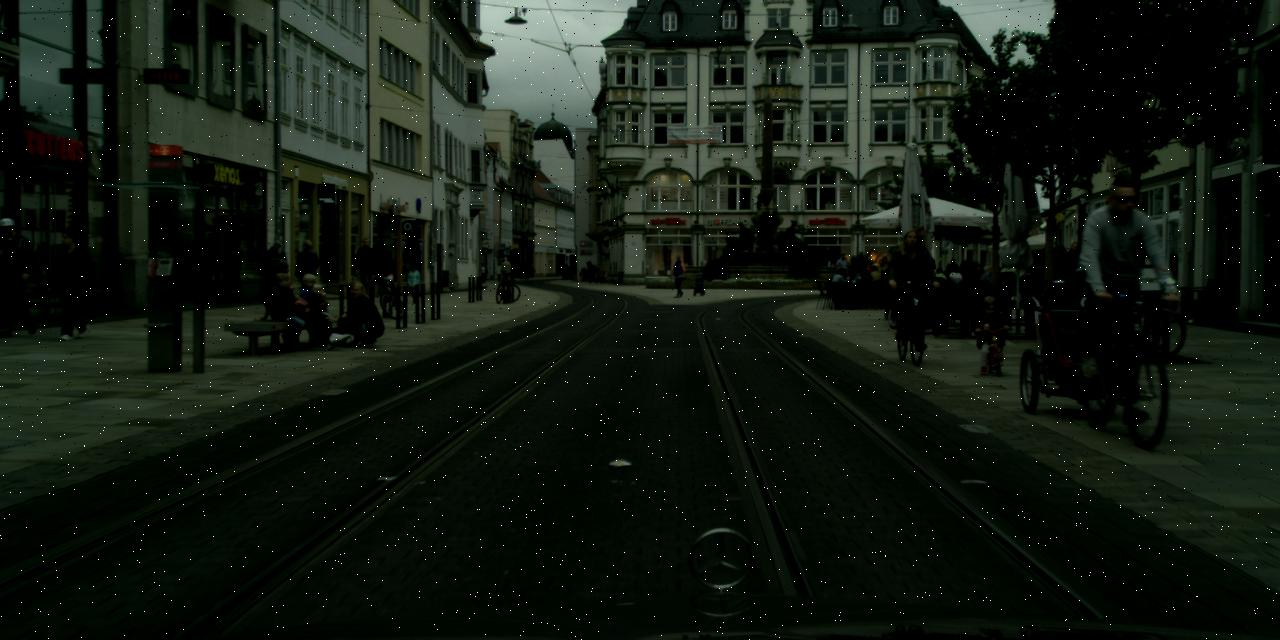ped: (1072, 179, 1162, 400), (50, 228, 94, 336), (890, 230, 933, 336), (0, 218, 36, 333), (976, 296, 1006, 366), (828, 252, 888, 282), (936, 258, 990, 288), (295, 239, 319, 300), (354, 237, 378, 297), (1018, 249, 1042, 307), (266, 240, 288, 298), (378, 250, 398, 300), (1058, 239, 1078, 280), (670, 254, 686, 295), (406, 263, 421, 303), (559, 264, 577, 282), (499, 256, 510, 283), (695, 272, 703, 294), (495, 262, 503, 282), (479, 262, 486, 282), (516, 262, 523, 278), (522, 262, 528, 278), (528, 263, 534, 276), (1000, 268, 1001, 274)
